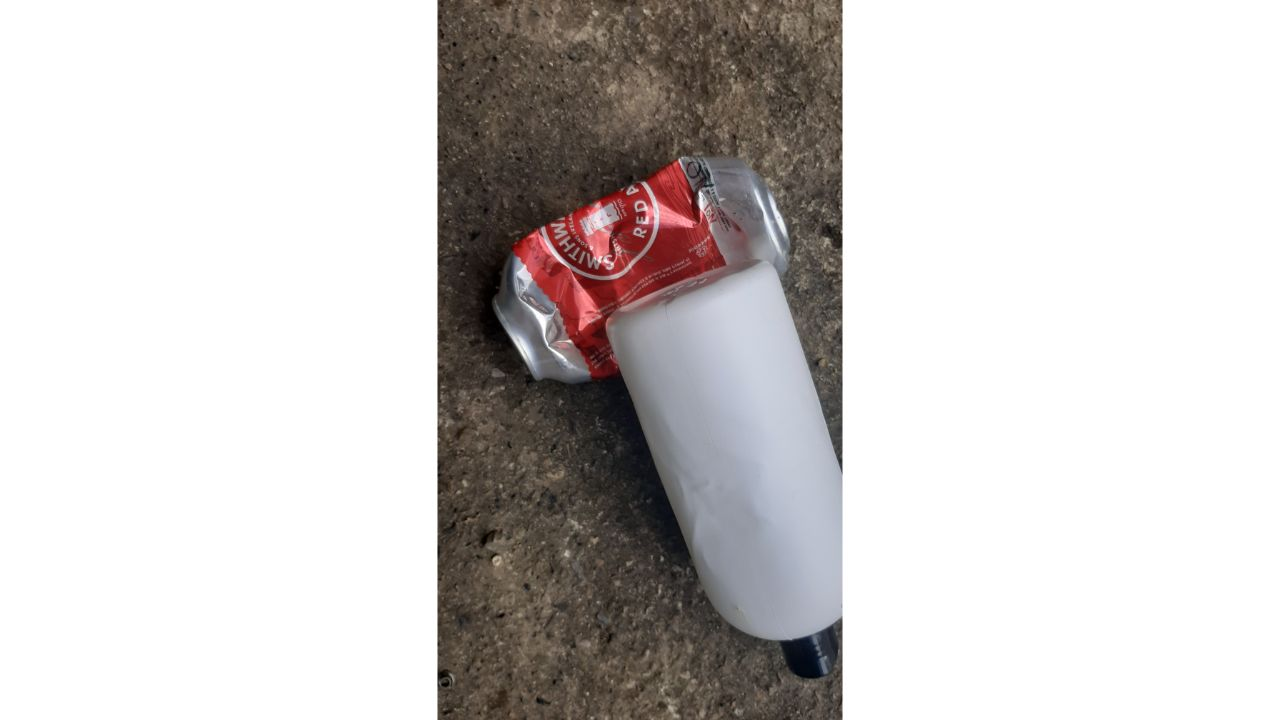Can: (487, 146, 802, 395)
